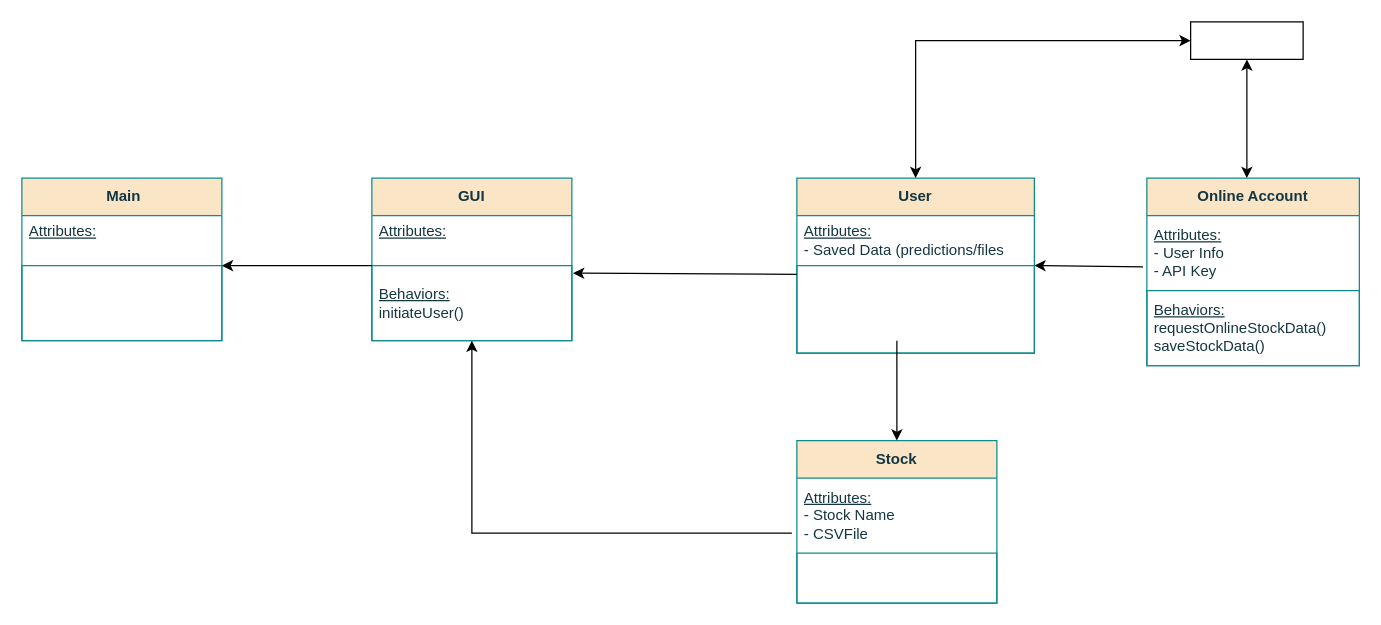
This 1381x625 diagram has some shape labels left out. Each missing label, with the centre of its shape:
Behaviors:: point (896, 577)
Behaviors: logIn() requestStockInfo() getCSV(): point (915, 308)
Behaviors: startGUI(): point (121, 302)
CSV Object: point (1246, 40)
